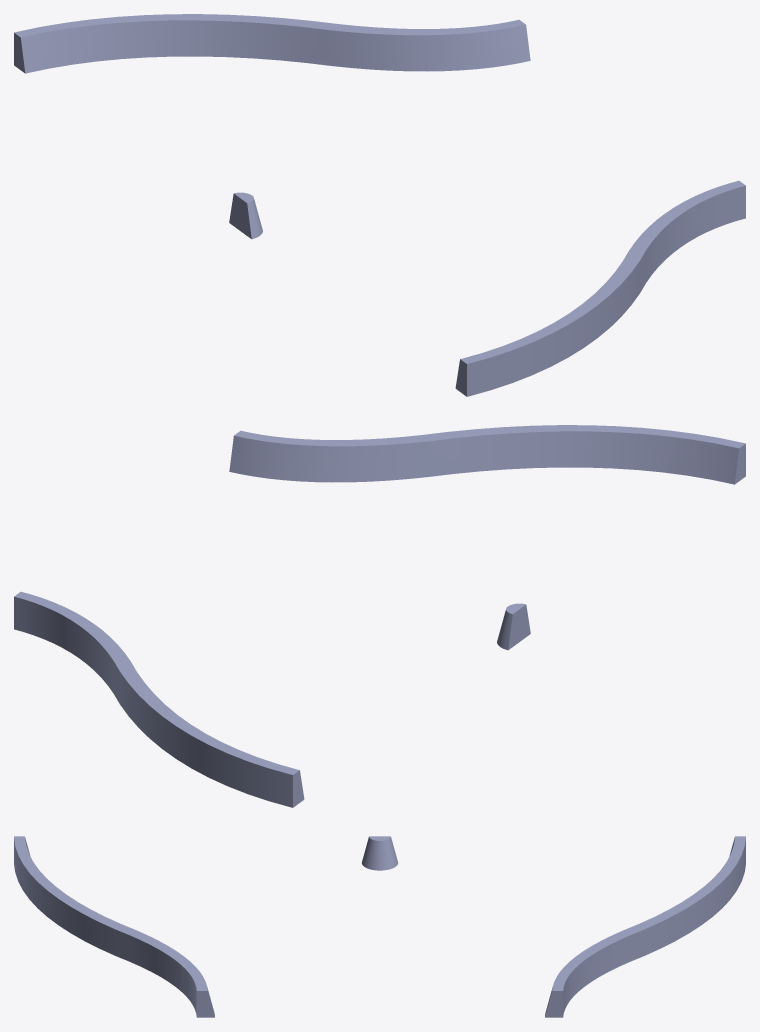
The model's file is road-split-barrier.glb.
The picture shows the model from 3 angles, top to bottom: view 1: azimuth 30°, elevation 25°; view 2: azimuth 150°, elevation 25°; view 3: azimuth 270°, elevation 25°; orthographic projection. The views are drawn at different scales.
Visible parts, largest first — view 1: road-split-barrier; view 2: road-split-barrier; view 3: road-split-barrier.
Boxes of the visible parts, box(x1,y1,x2,y2) form: road-split-barrier: box(14, 14, 745, 396); road-split-barrier: box(14, 425, 745, 807); road-split-barrier: box(14, 836, 745, 1017).
Bounding box in the file's own units: 1 × 0.08 × 2.
1 material, 1 textured.
